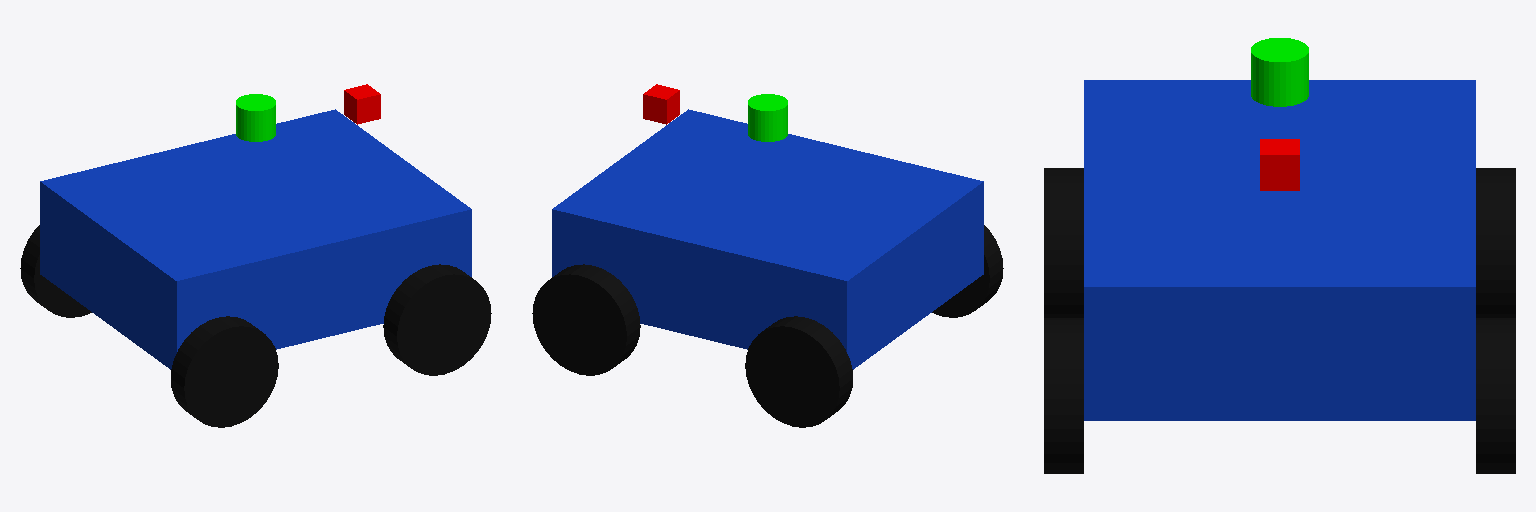
URDF robot description (fourwd_robot):
<?xml version="1.0"?>

<robot name="fourwd_robot">
  <!-- ========================= -->
  <!-- BASE FOOTPRINT            -->
  <!-- ========================= -->

  <link name="base_footprint"/>

  <joint name="base_footprint_joint" type="fixed">

    <parent link="base_footprint"/>

    <child link="base_link"/>

    <origin xyz="0 0 0.155"
            rpy="0 0 0"/>

  </joint>

  <!-- ========================= -->
  <!-- BASE LINK                 -->
  <!-- ========================= -->

  <link name="base_link">

    <!-- VISUAL -->
    <visual>
      <origin xyz="0 0 0" rpy="0 0 0"/>

      <geometry>
        <box size="0.50 0.40 0.15"/>
      </geometry>

      <material name="blue">
        <color rgba="0.1 0.3 0.8 1.0"/>
      </material>
    </visual>

    <!-- COLLISION -->
    <collision>
      <origin xyz="0 0 0" rpy="0 0 0"/>

      <geometry>
        <box size="0.50 0.40 0.15"/>
      </geometry>
    </collision>

    <!-- INERTIAL -->
    <inertial>

      <origin xyz="0 0 0" rpy="0 0 0"/>

      <mass value="10.0"/>

      <inertia
        ixx="0.154"
        ixy="0.0"
        ixz="0.0"
        iyy="0.233"
        iyz="0.0"
        izz="0.341"/>
    </inertial>

  </link>
   <link name="lidar_link">

  <visual>
    <geometry>
      <cylinder radius="0.03" length="0.05"/>
    </geometry>

    <material name="green">
      <color rgba="0.0 1.0 0.0 1.0"/>
    </material>
  </visual>

  <collision>
    <geometry>
      <cylinder radius="0.03" length="0.05"/>
    </geometry>
  </collision>

  <inertial>
    <mass value="0.10"/>

    <origin xyz="0 0 0" rpy="0 0 0"/>

    <inertia
      ixx="0.0001"
      ixy="0.0"
      ixz="0.0"
      iyy="0.0001"
      iyz="0.0"
      izz="0.0001"/>
  </inertial>

</link>
  <joint name="lidar_joint" type="fixed">

    <parent link="base_link"/>

    <child link="lidar_link"/>

    <origin xyz="0 0 0.20"
            rpy="0 0 0"/>

  </joint>
    <link name="camera_link">

    <visual>
      <geometry>
        <box size="0.04 0.04 0.04"/>
      </geometry>

      <material name="red">
        <color rgba="1.0 0.0 0.0 1.0"/>
      </material>
    </visual>

  </link>

  <joint name="camera_joint" type="fixed">

    <parent link="base_link"/>

    <child link="camera_link"/>

    <origin xyz="0.18 0 0.18"
            rpy="0 0 0"/>

  </joint>
    <link name="imu_link">

    <visual>
      <geometry>
        <box size="0.02 0.02 0.02"/>
      </geometry>

      <material name="yellow">
        <color rgba="1.0 1.0 0.0 1.0"/>
      </material>
    </visual>

  </link>

  <joint name="imu_joint" type="fixed">

    <parent link="base_link"/>

    <child link="imu_link"/>

    <origin xyz="0 0 0"
            rpy="0 0 0"/>

  </joint>

    <!-- ========================= -->
  <!-- FRONT LEFT WHEEL          -->
  <!-- ========================= -->

  <link name="front_left_wheel_link">

    <visual>
      <origin xyz="0 0 0" rpy="1.5708 0 0"/>

      <geometry>
        <cylinder radius="0.08" length="0.04"/>
      </geometry>

      <material name="black">
        <color rgba="0.1 0.1 0.1 1.0"/>
      </material>
    </visual>

    <collision>
      <origin xyz="0 0 0" rpy="1.5708 0 0"/>

      <geometry>
        <cylinder radius="0.08" length="0.04"/>
      </geometry>
    </collision>

    <inertial>
      <origin xyz="0 0 0" rpy="0 0 0"/>

      <mass value="1.0"/>

      <inertia
        ixx="0.003"
        ixy="0.0"
        ixz="0.0"
        iyy="0.003"
        iyz="0.0"
        izz="0.003"/>
    </inertial>

  </link>
    <joint name="front_left_wheel_joint" type="continuous">

    <parent link="base_link"/>

    <child link="front_left_wheel_link"/>

    <origin xyz="0.18 0.22 -0.08"
            rpy="0 0 0"/>

    <axis xyz="0 1 0"/>

  </joint>
    <!-- ========================= -->
  <!-- FRONT RIGHT WHEEL         -->
  <!-- ========================= -->

  <link name="front_right_wheel_link">

    <visual>
      <origin xyz="0 0 0" rpy="1.5708 0 0"/>
      <geometry>
        <cylinder radius="0.08" length="0.04"/>
      </geometry>
      <material name="black">
        <color rgba="0.1 0.1 0.1 1.0"/>
      </material>
    </visual>

    <collision>
      <origin xyz="0 0 0" rpy="1.5708 0 0"/>
      <geometry>
        <cylinder radius="0.08" length="0.04"/>
      </geometry>
    </collision>

    <inertial>
      <origin xyz="0 0 0" rpy="0 0 0"/>
      <mass value="1.0"/>
      <inertia
        ixx="0.003"
        ixy="0.0"
        ixz="0.0"
        iyy="0.003"
        iyz="0.0"
        izz="0.003"/>
    </inertial>

  </link>

  <joint name="front_right_wheel_joint" type="continuous">

    <parent link="base_link"/>

    <child link="front_right_wheel_link"/>

    <origin xyz="0.18 -0.22 -0.08"
            rpy="0 0 0"/>

    <axis xyz="0 1 0"/>

  </joint>
    <!-- ========================= -->
  <!-- REAR LEFT WHEEL           -->
  <!-- ========================= -->

  <link name="rear_left_wheel_link">

    <visual>
      <origin xyz="0 0 0" rpy="1.5708 0 0"/>
      <geometry>
        <cylinder radius="0.08" length="0.04"/>
      </geometry>
      <material name="black">
        <color rgba="0.1 0.1 0.1 1.0"/>
      </material>
    </visual>

    <collision>
      <origin xyz="0 0 0" rpy="1.5708 0 0"/>
      <geometry>
        <cylinder radius="0.08" length="0.04"/>
      </geometry>
    </collision>

    <inertial>
      <origin xyz="0 0 0" rpy="0 0 0"/>
      <mass value="1.0"/>
      <inertia
        ixx="0.003"
        ixy="0.0"
        ixz="0.0"
        iyy="0.003"
        iyz="0.0"
        izz="0.003"/>
    </inertial>

  </link>

  <joint name="rear_left_wheel_joint" type="continuous">

    <parent link="base_link"/>

    <child link="rear_left_wheel_link"/>

    <origin xyz="-0.18 0.22 -0.08"
            rpy="0 0 0"/>

    <axis xyz="0 1 0"/>

  </joint>
    <!-- ========================= -->
  <!-- REAR RIGHT WHEEL          -->
  <!-- ========================= -->

  <link name="rear_right_wheel_link">

    <visual>
      <origin xyz="0 0 0" rpy="1.5708 0 0"/>
      <geometry>
        <cylinder radius="0.08" length="0.04"/>
      </geometry>
      <material name="black">
        <color rgba="0.1 0.1 0.1 1.0"/>
      </material>
    </visual>

    <collision>
      <origin xyz="0 0 0" rpy="1.5708 0 0"/>
      <geometry>
        <cylinder radius="0.08" length="0.04"/>
      </geometry>
    </collision>

    <inertial>
      <origin xyz="0 0 0" rpy="0 0 0"/>
      <mass value="1.0"/>
      <inertia
        ixx="0.003"
        ixy="0.0"
        ixz="0.0"
        iyy="0.003"
        iyz="0.0"
        izz="0.003"/>
    </inertial>

  </link>

  <joint name="rear_right_wheel_joint" type="continuous">

    <parent link="base_link"/>

    <child link="rear_right_wheel_link"/>

    <origin xyz="-0.18 -0.22 -0.08"
            rpy="0 0 0"/>

    <axis xyz="0 1 0"/>

  </joint>
    <gazebo reference="lidar_link">

    <sensor name="gpu_lidar" type="gpu_lidar">

      <always_on>true</always_on>

      <update_rate>10</update_rate>

      <visualize>true</visualize>

      <topic>scan</topic>
      <frame_id>lidar_link</frame_id>
      

      <lidar>

        <scan>

          <horizontal>

            <samples>720</samples>

            <resolution>1</resolution>

            <min_angle>-3.14159</min_angle>

            <max_angle>3.14159</max_angle>

          </horizontal>

        </scan>

        <range>

          <min>0.10</min>

          <max>20.0</max>

          <resolution>0.01</resolution>

        </range>

      </lidar>

    </sensor>

  </gazebo>
   <gazebo>

    <plugin
      filename="gz-sim-diff-drive-system"
      name="gz::sim::systems::DiffDrive">

      <left_joint>front_left_wheel_joint</left_joint>
      <left_joint>rear_left_wheel_joint</left_joint>

      <right_joint>front_right_wheel_joint</right_joint>
      <right_joint>rear_right_wheel_joint</right_joint>

      <wheel_separation>0.44</wheel_separation>
      <wheel_radius>0.08</wheel_radius>

      <topic>cmd_vel</topic>

      <odom_topic>odom</odom_topic>

      <frame_id>odom</frame_id>
      <child_frame_id>base_footprint</child_frame_id>

      <publish_odom>true</publish_odom>
      <publish_tf>true</publish_tf>

    </plugin>

  </gazebo>
  <gazebo reference="camera_link">

  <sensor name="camera_sensor" type="camera">

    <always_on>true</always_on>

    <update_rate>30</update_rate>

    <visualize>true</visualize>

    <topic>camera/image_raw</topic>

    <camera>

      <horizontal_fov>1.57</horizontal_fov>

      <image>
        <width>640</width>
        <height>480</height>
        <format>R8G8B8</format>
      </image>

      <clip>
        <near>0.1</near>
        <far>100.0</far>
      </clip>

    </camera>

  </sensor>

</gazebo>

</robot>

--- Facts derived from the render (not from the file) ---
3 views of the same robot in one strip: view 1: azimuth 30°, elevation 25°; view 2: azimuth 150°, elevation 25°; view 3: azimuth 270°, elevation 25° (orthographic).
Robot: fourwd_robot — 9 links, 8 joints (4 continuous, 4 fixed); root link base_footprint; default pose: every joint at zero.
Links seen in each view (by area): view 1: base_link, front_right_wheel_link, rear_right_wheel_link, rear_left_wheel_link, lidar_link, camera_link; view 2: base_link, front_left_wheel_link, rear_left_wheel_link, rear_right_wheel_link, lidar_link, camera_link; view 3: base_link, front_left_wheel_link, front_right_wheel_link, rear_left_wheel_link, rear_right_wheel_link, lidar_link, camera_link.
Boxes of the visible links, x1=… form: base_link: x1=40, y1=109, x2=471, y2=369; front_right_wheel_link: x1=383, y1=264, x2=491, y2=375; rear_right_wheel_link: x1=171, y1=316, x2=278, y2=427; rear_left_wheel_link: x1=20, y1=225, x2=91, y2=317; lidar_link: x1=236, y1=94, x2=275, y2=141; camera_link: x1=344, y1=84, x2=380, y2=124; base_link: x1=552, y1=109, x2=983, y2=369; front_left_wheel_link: x1=532, y1=264, x2=640, y2=375; rear_left_wheel_link: x1=745, y1=316, x2=852, y2=427; rear_right_wheel_link: x1=932, y1=225, x2=1003, y2=317; lidar_link: x1=748, y1=94, x2=787, y2=141; camera_link: x1=643, y1=84, x2=679, y2=124; base_link: x1=1084, y1=80, x2=1475, y2=420; front_left_wheel_link: x1=1476, y1=318, x2=1515, y2=473; front_right_wheel_link: x1=1044, y1=318, x2=1083, y2=473; rear_left_wheel_link: x1=1476, y1=168, x2=1515, y2=317; rear_right_wheel_link: x1=1044, y1=168, x2=1083, y2=317; lidar_link: x1=1251, y1=38, x2=1308, y2=106; camera_link: x1=1260, y1=139, x2=1299, y2=190.
Bounding box of the posed robot: 0.52 × 0.48 × 0.385 m (x, y, z).
Geometry: primitives only (box / cylinder / sphere), no mesh files.
